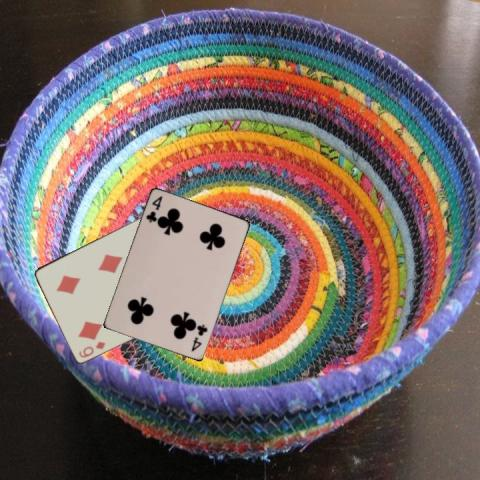4c: (188, 322, 209, 354), (143, 193, 164, 224)
6d: (76, 338, 107, 359)
